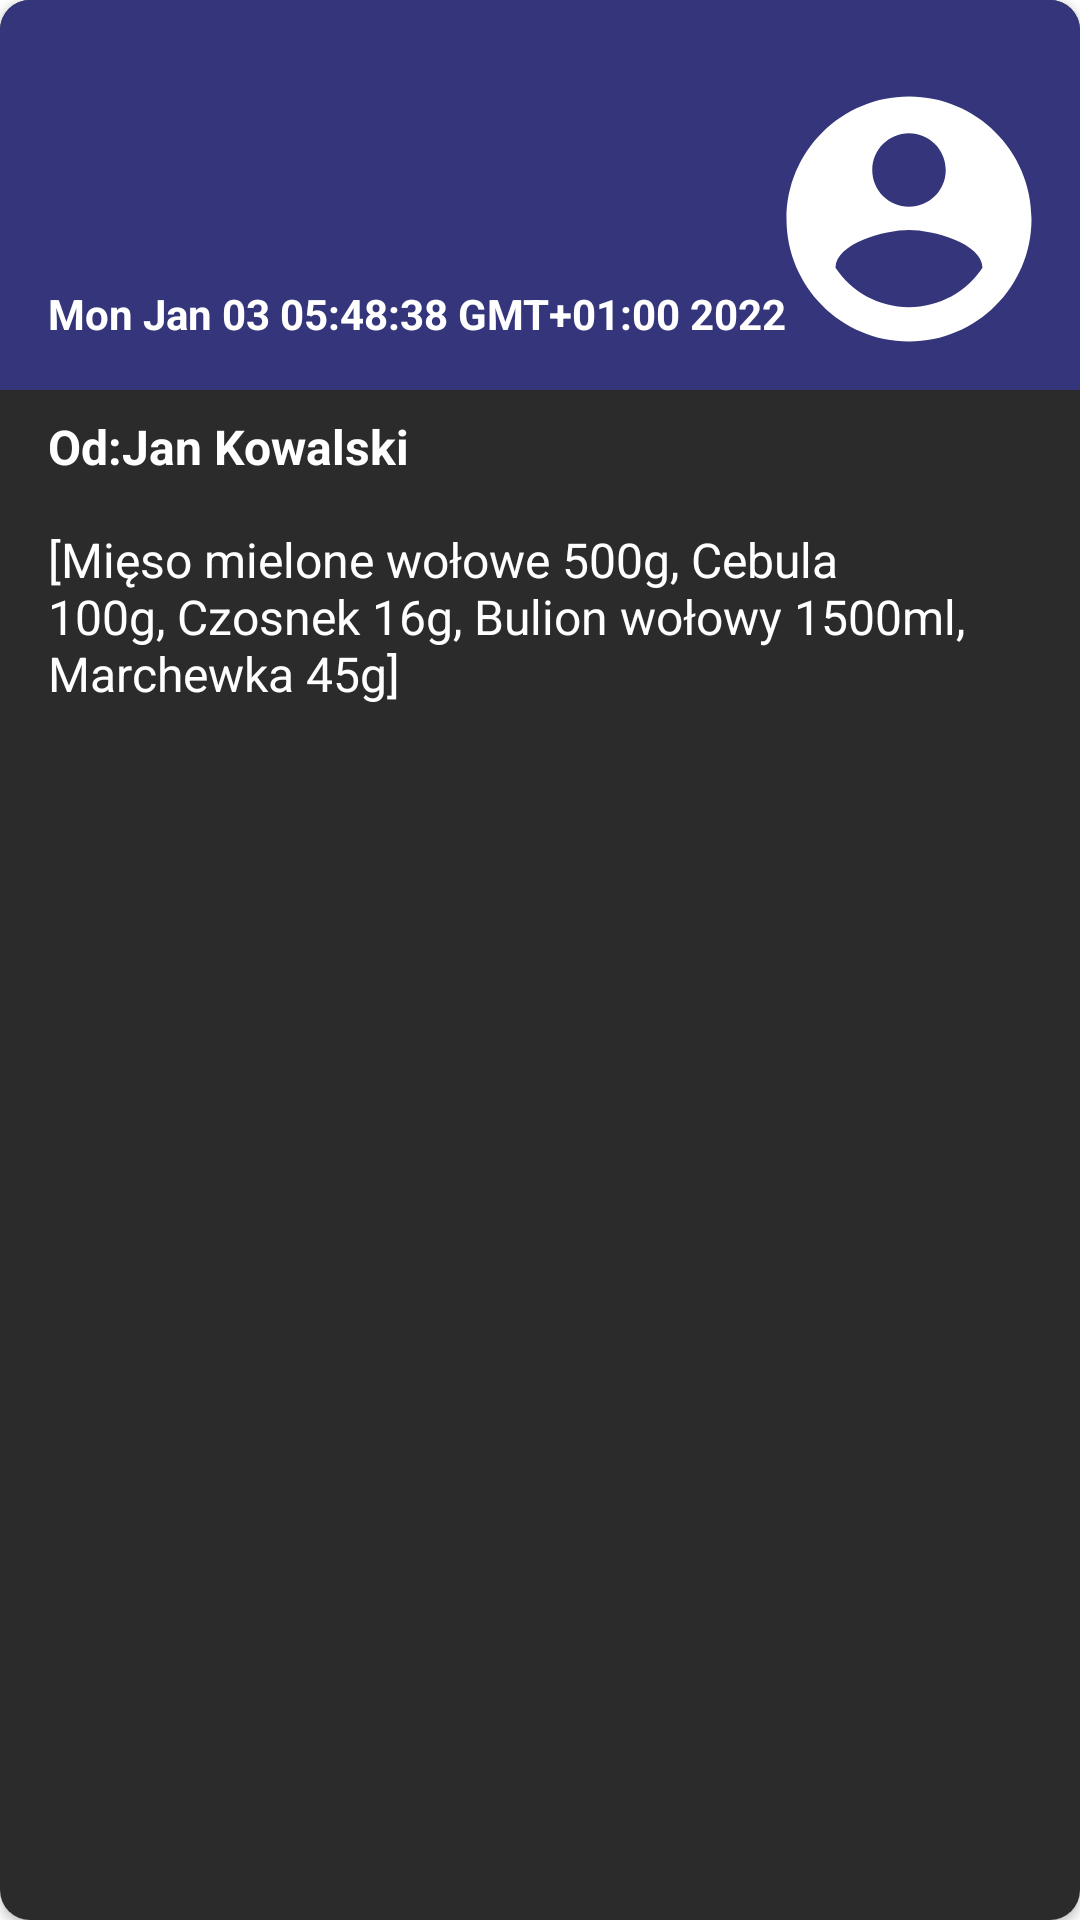

Icon click points for this 1080 x 1920 phone screenshot, format (x=x, y=y):
account: (x=897, y=219)
